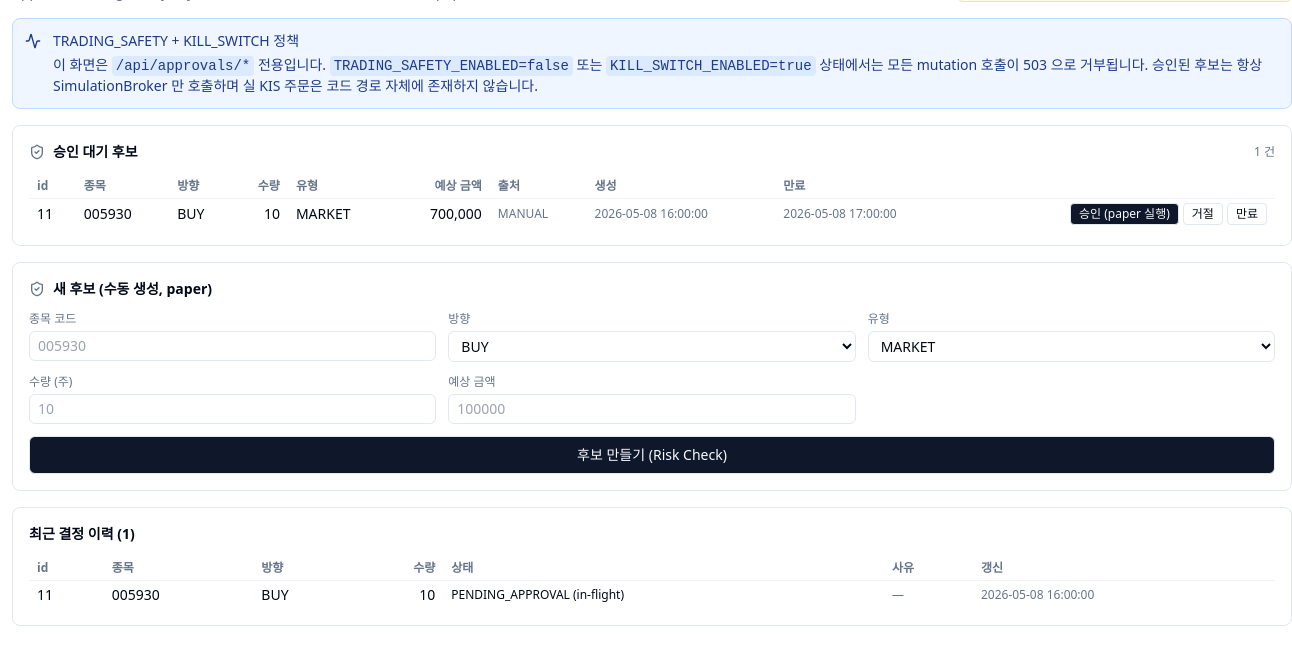
Test case: ApprovalsPage › opens the detail drawer with candidate summary, risk panel and audit timeline
What coordinates should you click on to do the following:
click the row with test id "approvals-row-11"
I would click on:
 (652, 214)
Its box is x1=29 y1=198 x2=1275 y2=229.
(page scrolled)
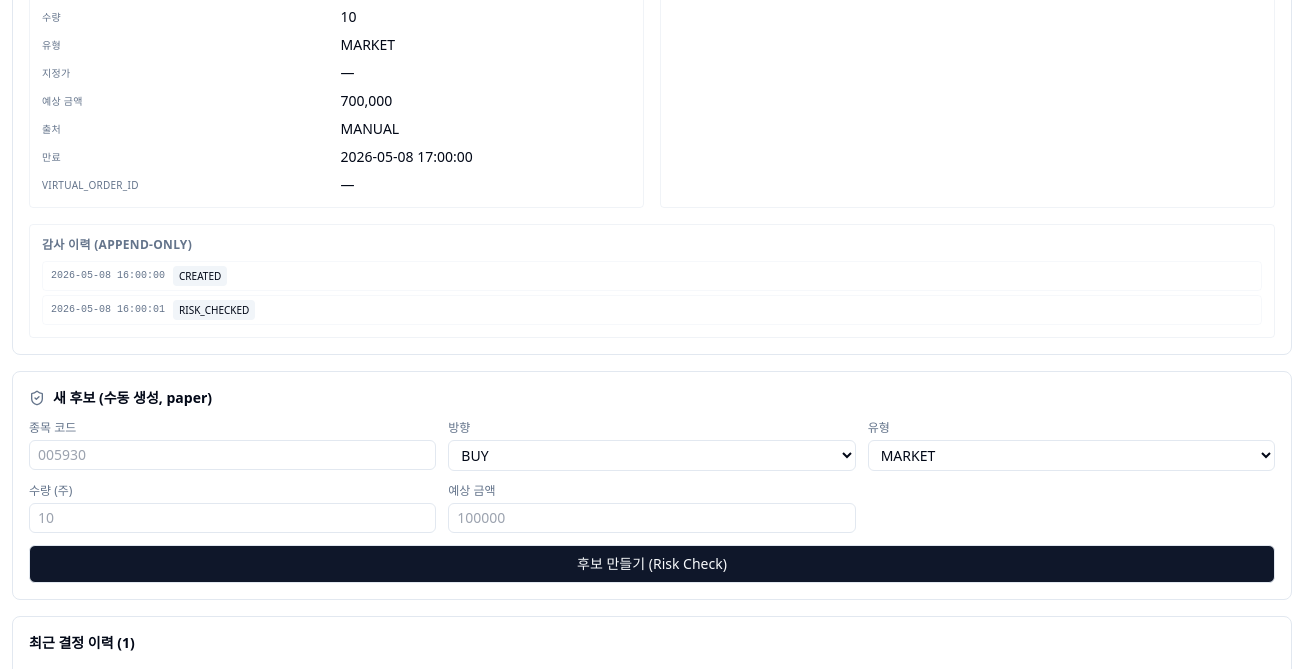
Now the element with test id "approvals-detail-audit" is shown, box x1=29 y1=224 x2=1275 y2=338
Now the list item with test id "approvals-audit-row-1" is shown, box x1=42 y1=261 x2=1262 y2=291
Now the list item with test id "approvals-audit-row-2" is shown, box x1=42 y1=295 x2=1262 y2=325
